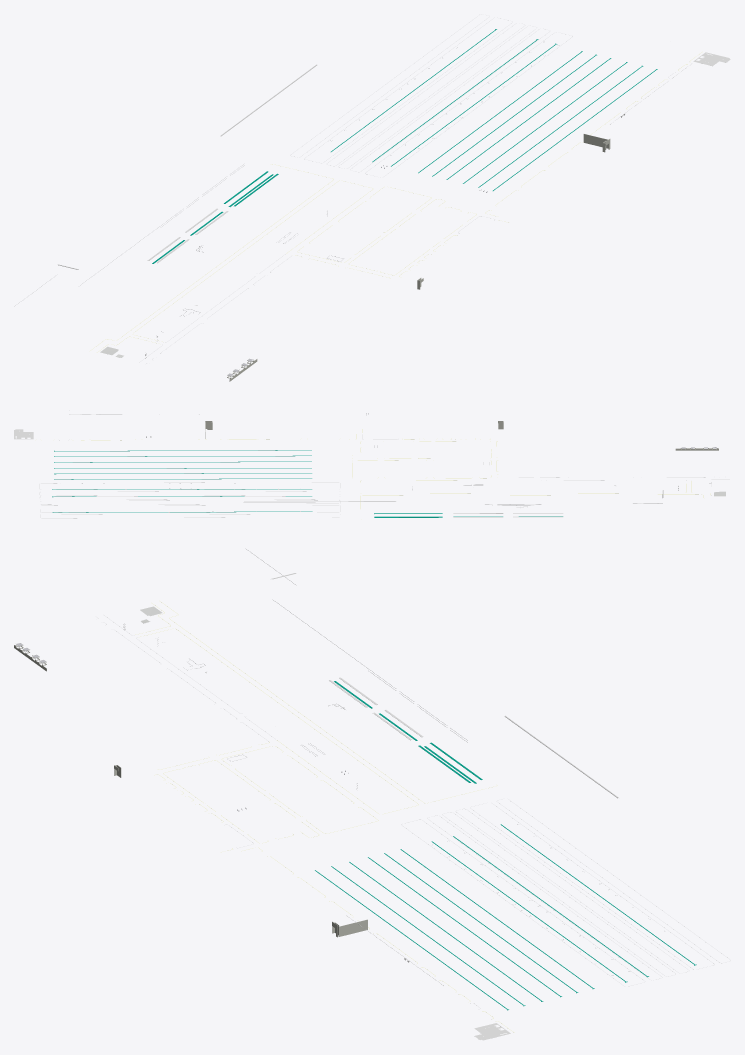
Rendered from pt-108-mantenimiento-mayor-hq-p11.glb.
The picture shows the model from 3 angles, top to bottom: view 1: azimuth 30°, elevation 25°; view 2: azimuth 150°, elevation 25°; view 3: azimuth 270°, elevation 25°; orthographic projection. The views are drawn at different scales.
Visible parts, largest first — view 1: no part large enough to name; view 2: 3jeqvgg_T0ARQ$IUqMRckP, 3s0boGYLv4CRc3$6yCNUKa, 386c9eBc9CSAhwevZeACKN, 386c9eBc9CSAhwevZeACVP, 386c9eBc9CSAhwevZeACRt, 386c9eBc9CSAhwevZeACM7, 386c9eBc9CSAhwevZeACTd, 3s0boGYLv4CRc3$6yCNUHM, 2vpzms08149uUJ9_hbCG2V; view 3: no part large enough to name.
Boxes of the visible parts, bbox=[...] form: 3jeqvgg_T0ARQ$IUqMRckP: bbox=[52, 511, 312, 512]; 3s0boGYLv4CRc3$6yCNUKa: bbox=[54, 478, 311, 479]; 386c9eBc9CSAhwevZeACKN: bbox=[54, 450, 311, 451]; 386c9eBc9CSAhwevZeACVP: bbox=[54, 473, 311, 474]; 386c9eBc9CSAhwevZeACRt: bbox=[54, 461, 311, 462]; 386c9eBc9CSAhwevZeACM7: bbox=[54, 455, 311, 456]; 386c9eBc9CSAhwevZeACTd: bbox=[54, 468, 311, 468]; 3s0boGYLv4CRc3$6yCNUHM: bbox=[52, 489, 311, 489]; 2vpzms08149uUJ9_hbCG2V: bbox=[243, 501, 395, 502].
Bounding box in the file's own units: 370 × 18.83 × 243.
